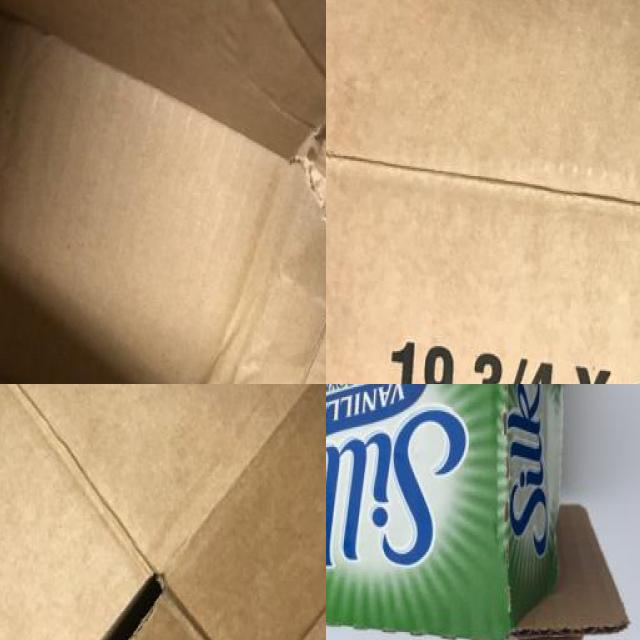class_name: (0, 3, 326, 384), (326, 0, 640, 384), (0, 384, 326, 640), (326, 384, 640, 640)
